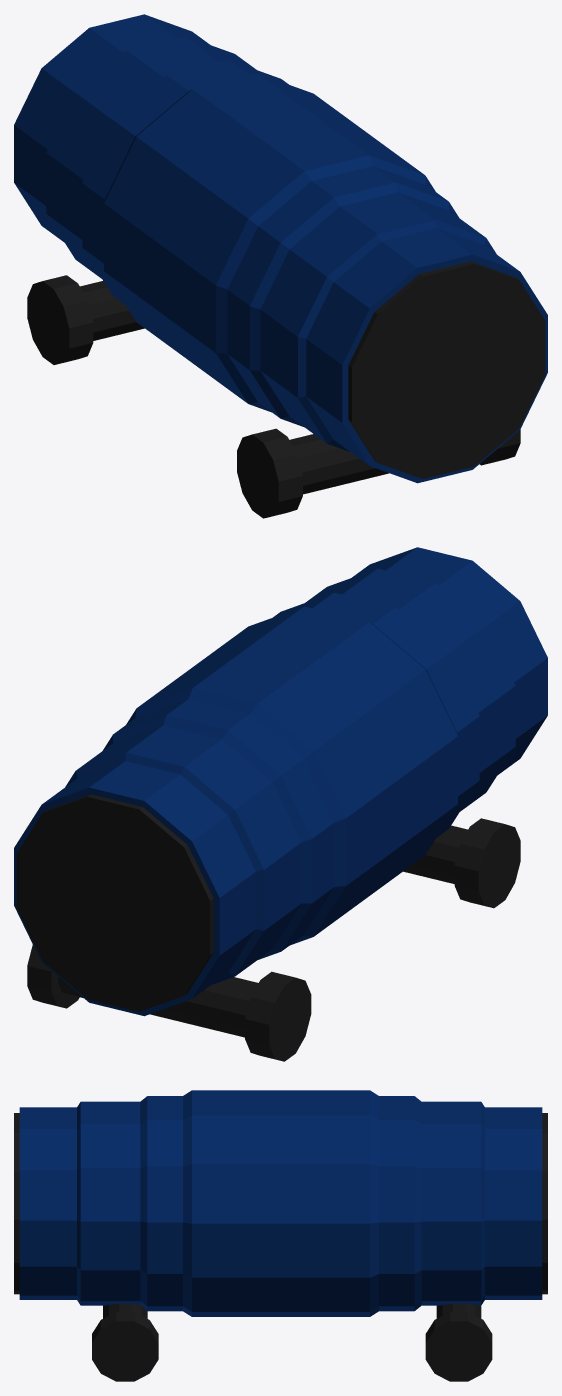
Rendered from scotrail_planter_middle.obj.
3 views of the same model, one above another, from view 1: azimuth 30°, elevation 25°; view 2: azimuth 150°, elevation 25°; view 3: azimuth 270°, elevation 25° (orthographic). The views are drawn at different scales.
Parts seen in each view (by area): view 1: cylinder, cone; view 2: cylinder, cone; view 3: cylinder, cone.
Boxes of the visible parts, left/top/right/bottom form: cylinder: left=14, top=14, right=547, bottom=518; cone: left=104, top=89, right=496, bottom=451; cylinder: left=14, top=547, right=547, bottom=1061; cone: left=65, top=622, right=457, bottom=984; cylinder: left=14, top=1090, right=547, bottom=1381; cone: left=77, top=1090, right=484, bottom=1316.
Size of the model in its own units: 0.625 by 0.7187 by 1.5.
2 materials, 2 textured.
